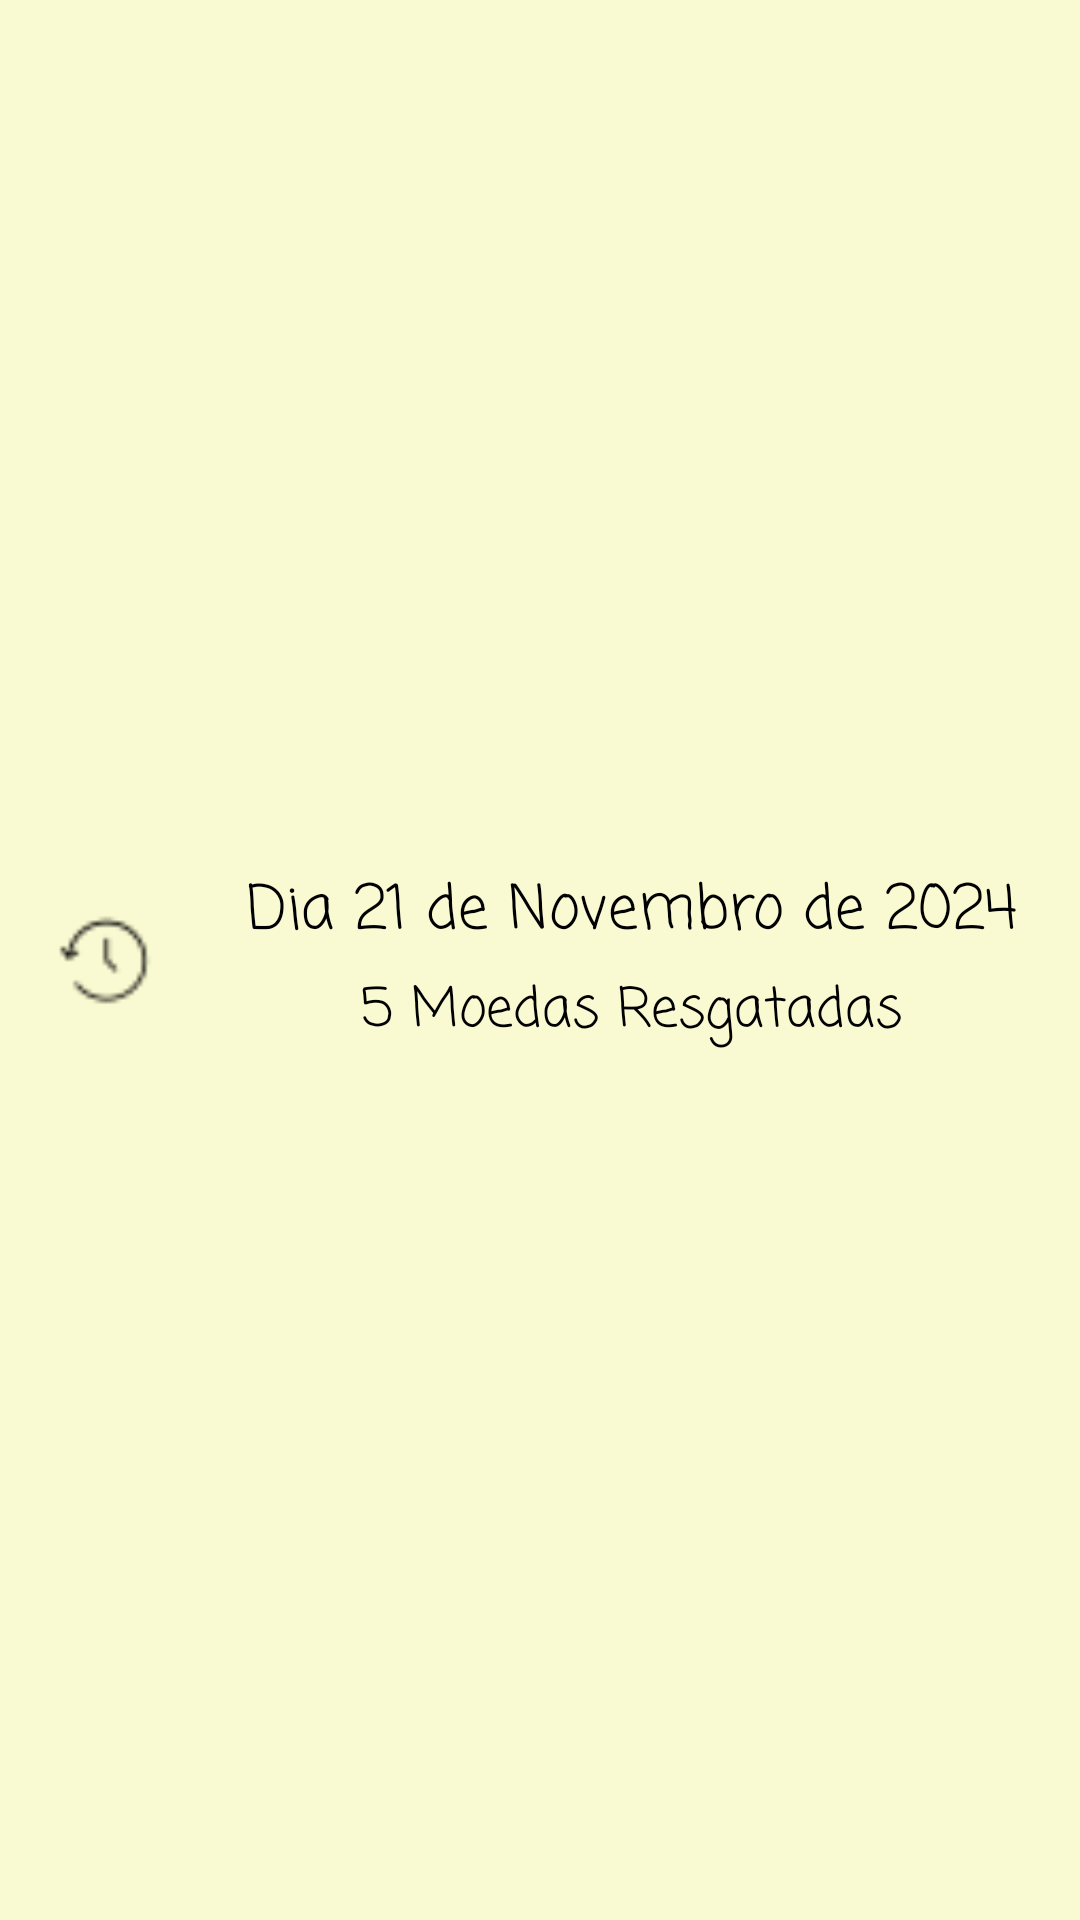

Screen size 1080×1920. Icon name, then its center in pixels as [x,y]:
historico: [103,960]
